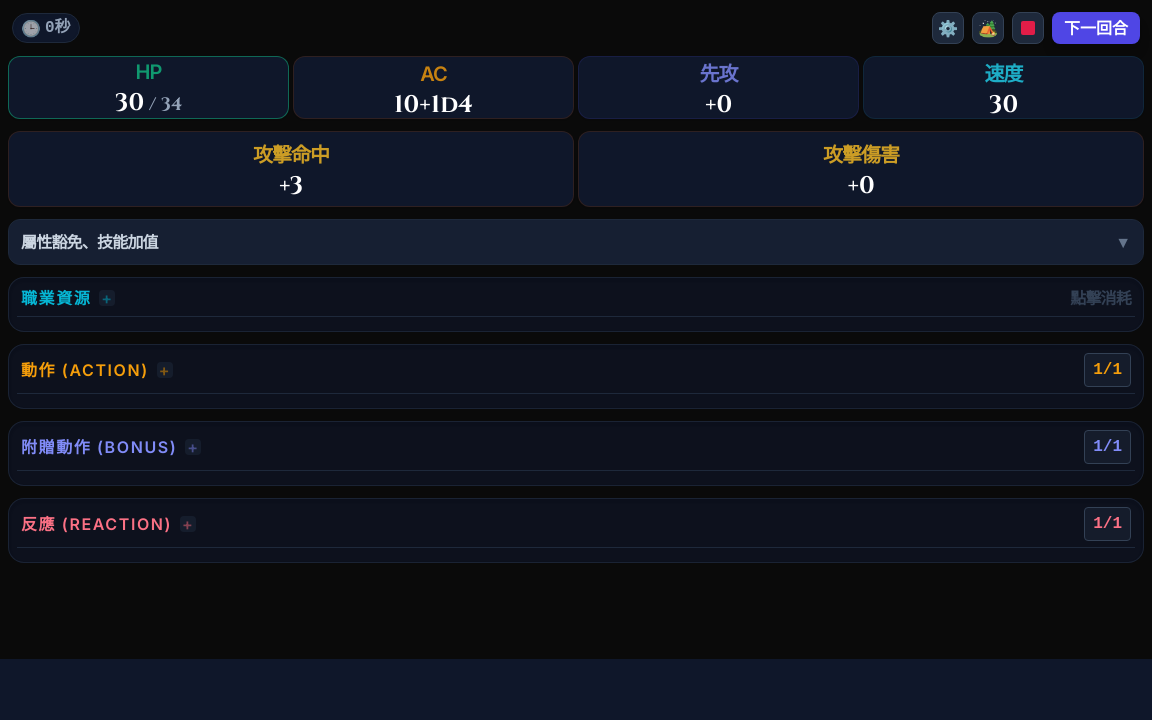
CombatView - 骰子記法戰鬥屬性加成顯示 › AC 詳細 modal 顯示骰子來源文字，最終總計接骰子字尾
What coordinates should you click on to do the following:
click the element showing "AC 10+1d4"
I would click on:
 (434, 88)
Its box is [293, 56, 574, 119].
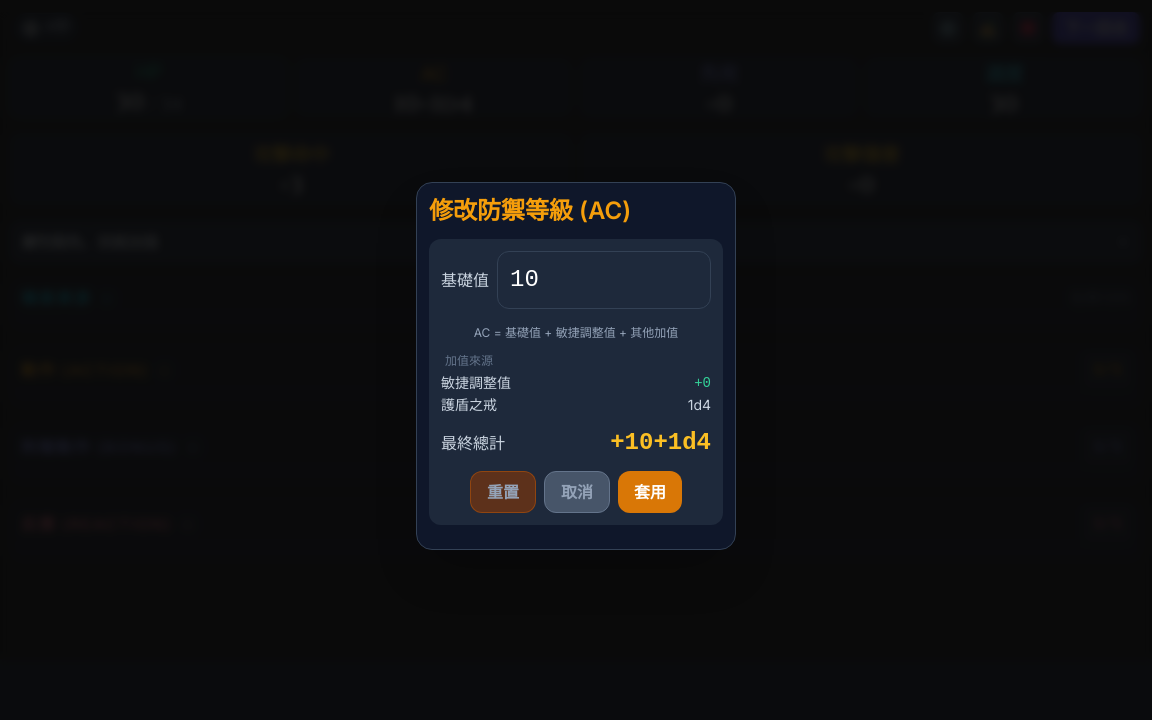
expect the text "護盾之戒" is shown: met, box [441, 395, 497, 415]
expect the text "1d4" is shown: met, box [688, 395, 711, 415]
expect the text "+10+1d4" is shown: met, box [610, 427, 711, 459]
